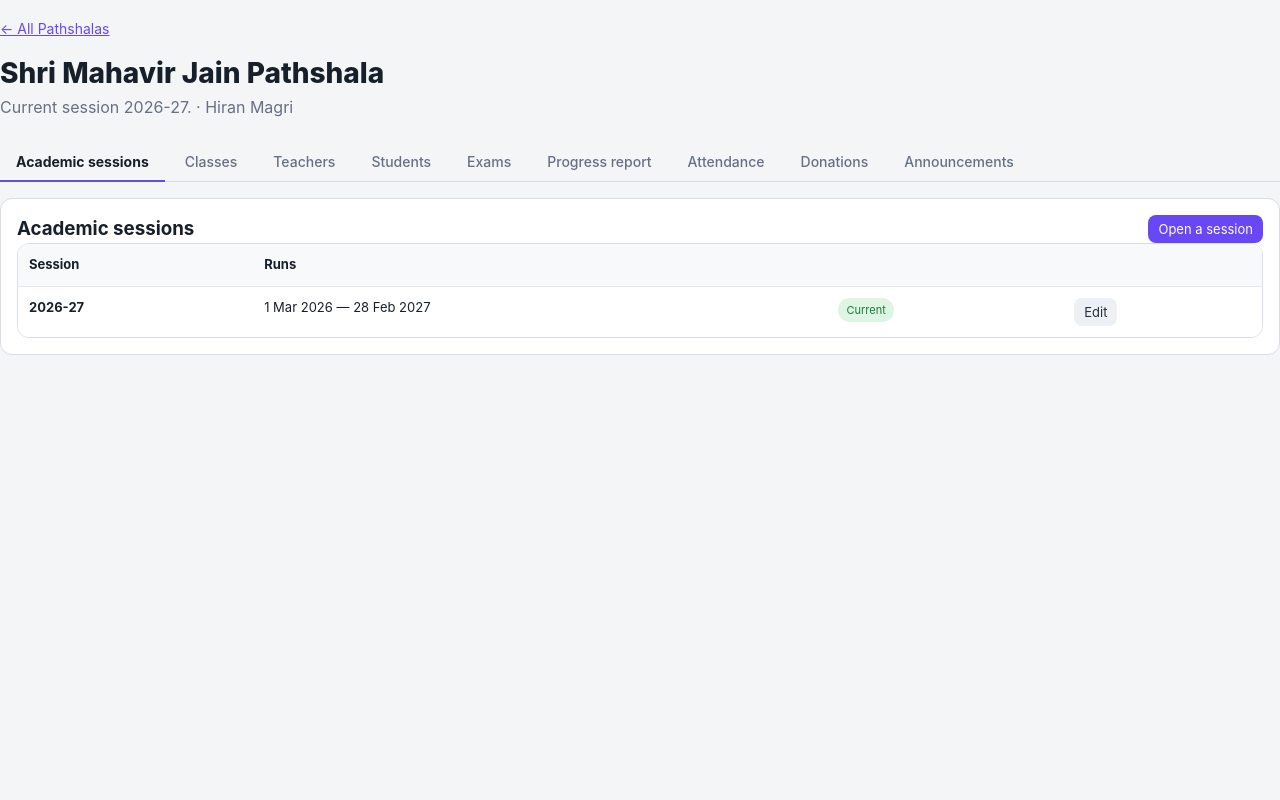
PathshalaDetailComponent › edits a session in place, from its row, filled with what it holds
Click the button "Edit": (1096, 312) [1074, 298, 1117, 326]
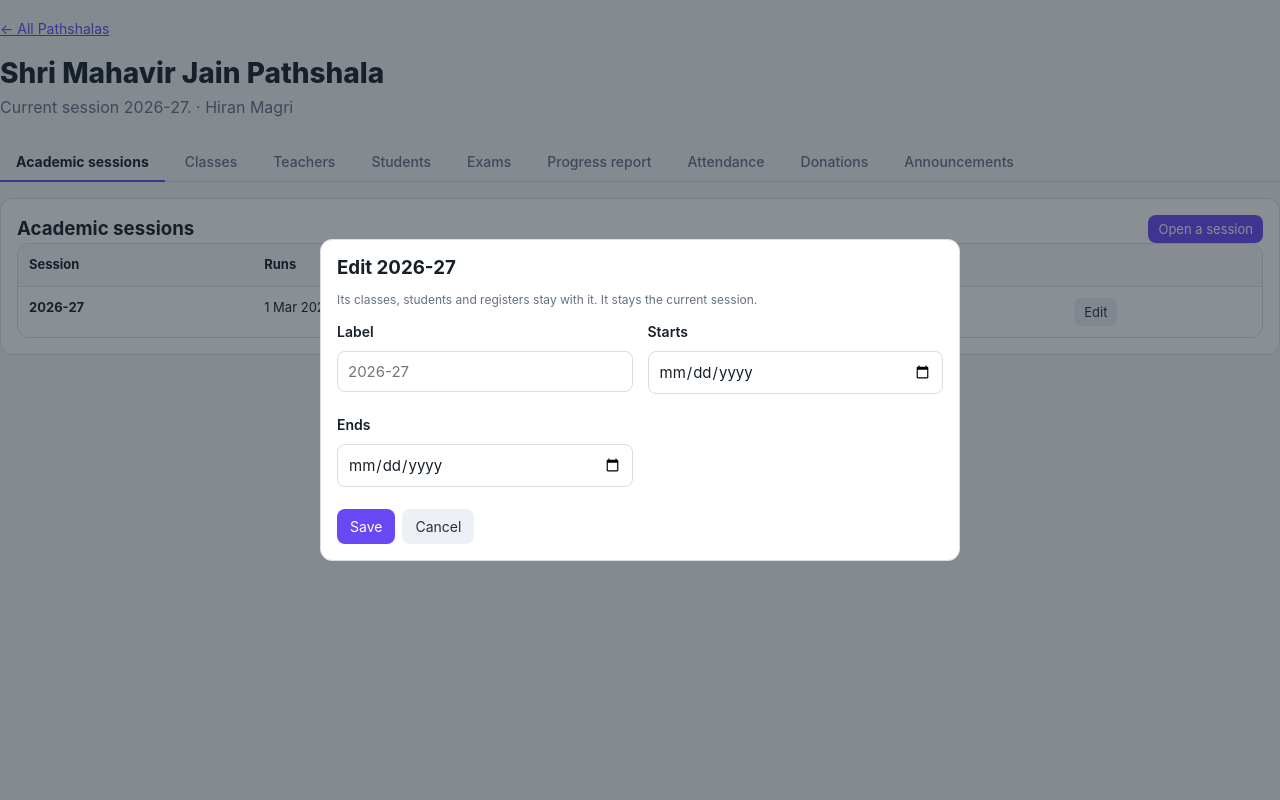
expect the text "Edit 2026-27" is shown: met, box [337, 256, 456, 279]
expect the text "It stays the current session." is shown: met, box [601, 292, 757, 307]
